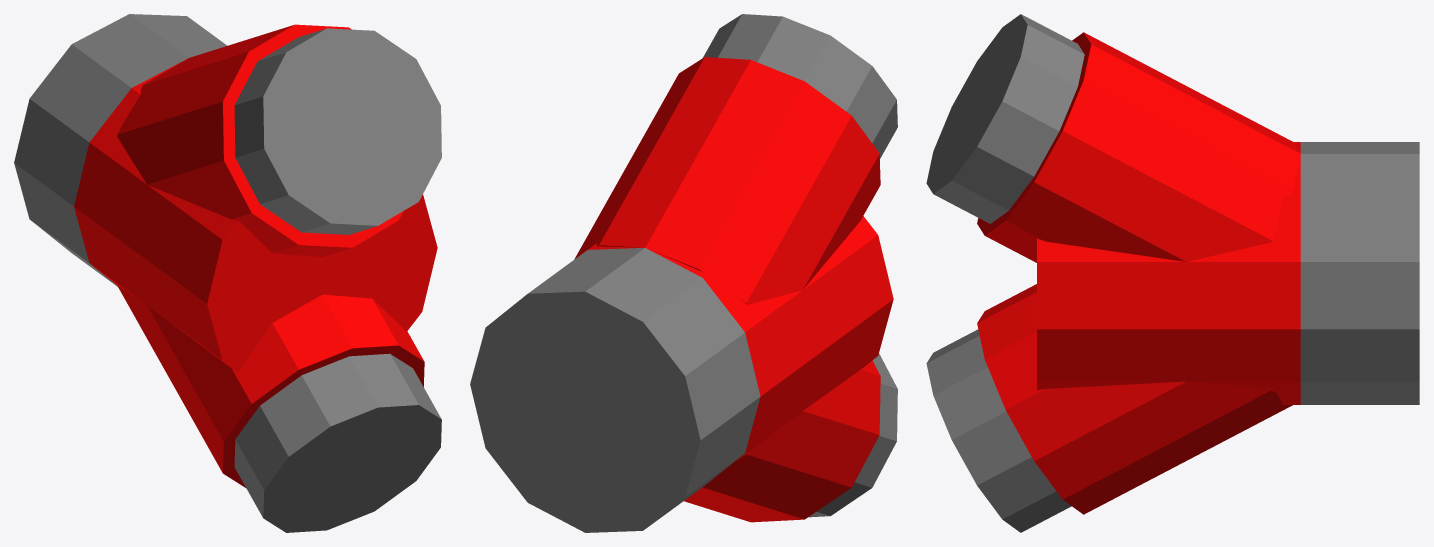
File: nil_link_mesh.dae
3 renders of one model, left to right at view 1: azimuth 30°, elevation 25°; view 2: azimuth 150°, elevation 25°; view 3: azimuth 270°, elevation 25°, orthographic.
Visible parts, largest first — view 1: nil_link (×6); view 2: nil_link (×6); view 3: nil_link (×6).
Part boxes in pixels (x1=…): nil_link (×6): x1=14, y1=14, x2=441, y2=532; nil_link (×6): x1=470, y1=14, x2=897, y2=532; nil_link (×6): x1=926, y1=14, x2=1419, y2=532.
Size of the model in its own units: 0.06 by 0.1248 by 0.1121.
